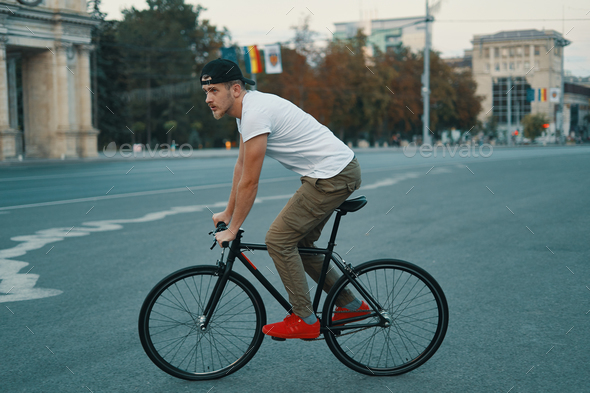bike: (133, 195, 451, 383)
person: (197, 56, 370, 342)
